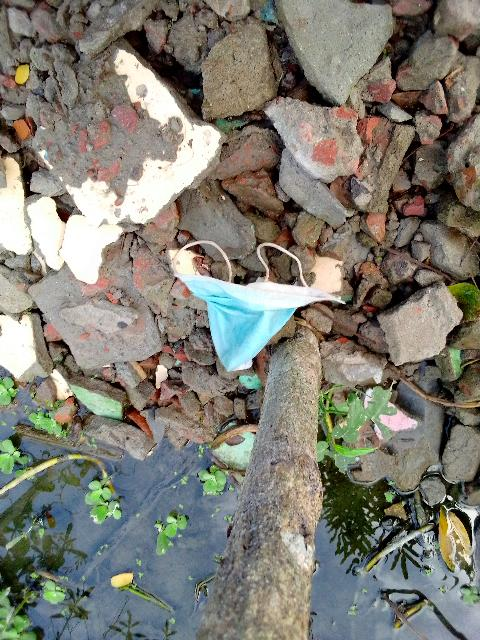mask: (149, 236, 336, 356)
